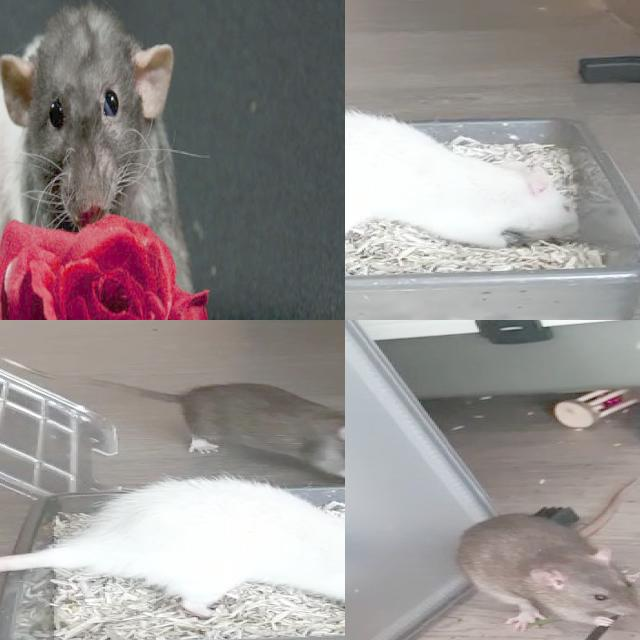rat: (69, 478, 345, 620), (0, 14, 183, 216), (345, 107, 587, 256), (458, 514, 640, 631), (171, 381, 345, 487)
